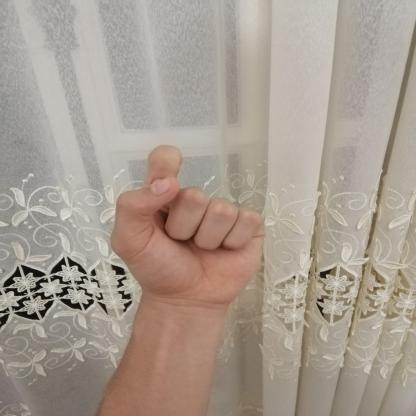FAA: (96, 137, 278, 317)
